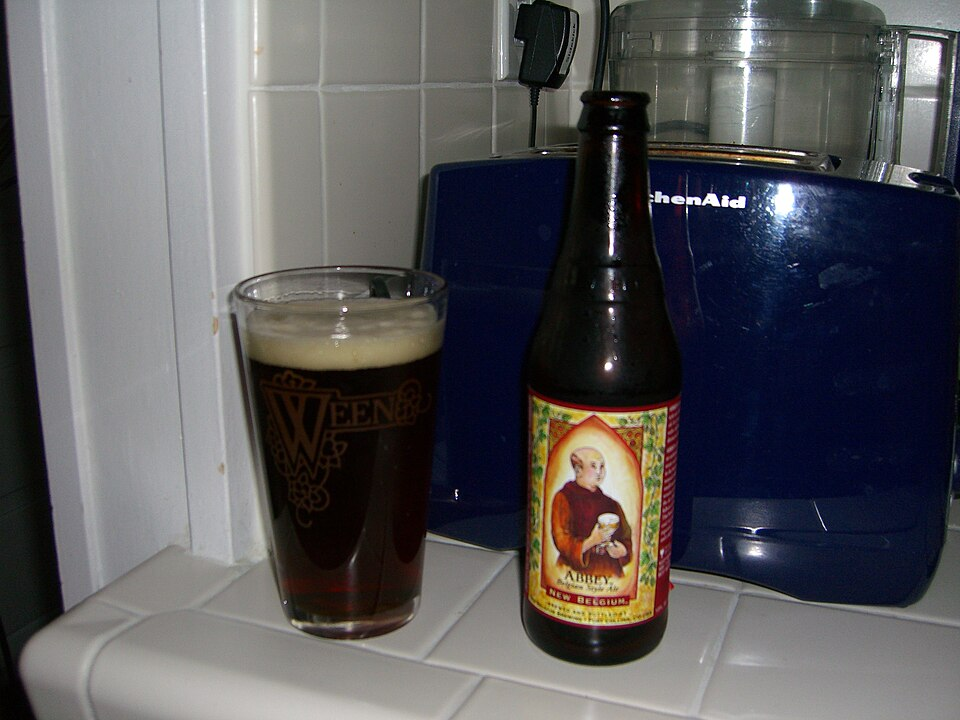beer-bottle: (513, 86, 688, 675)
